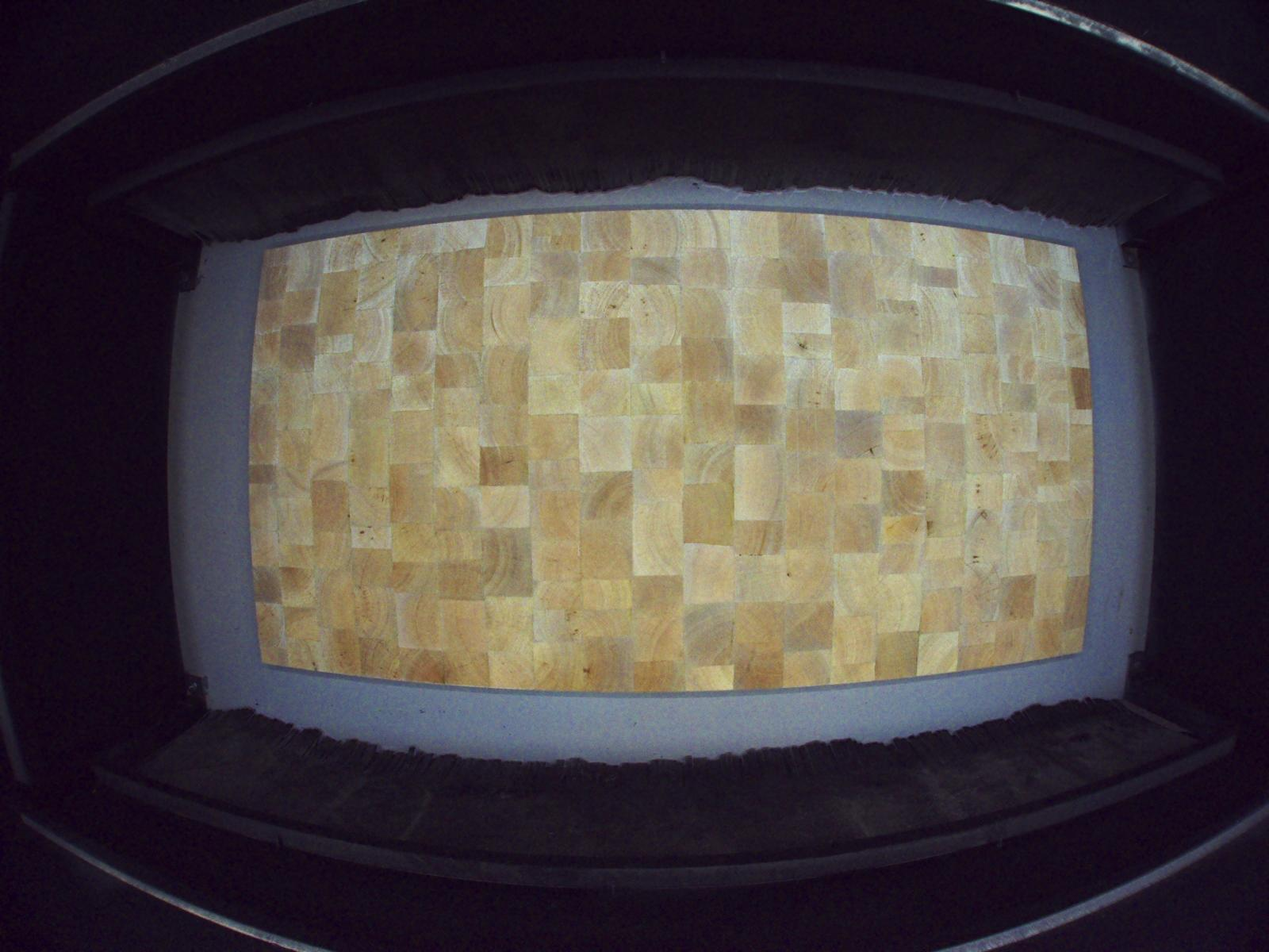sheck_ecuatoriano: (856, 442, 883, 460)
